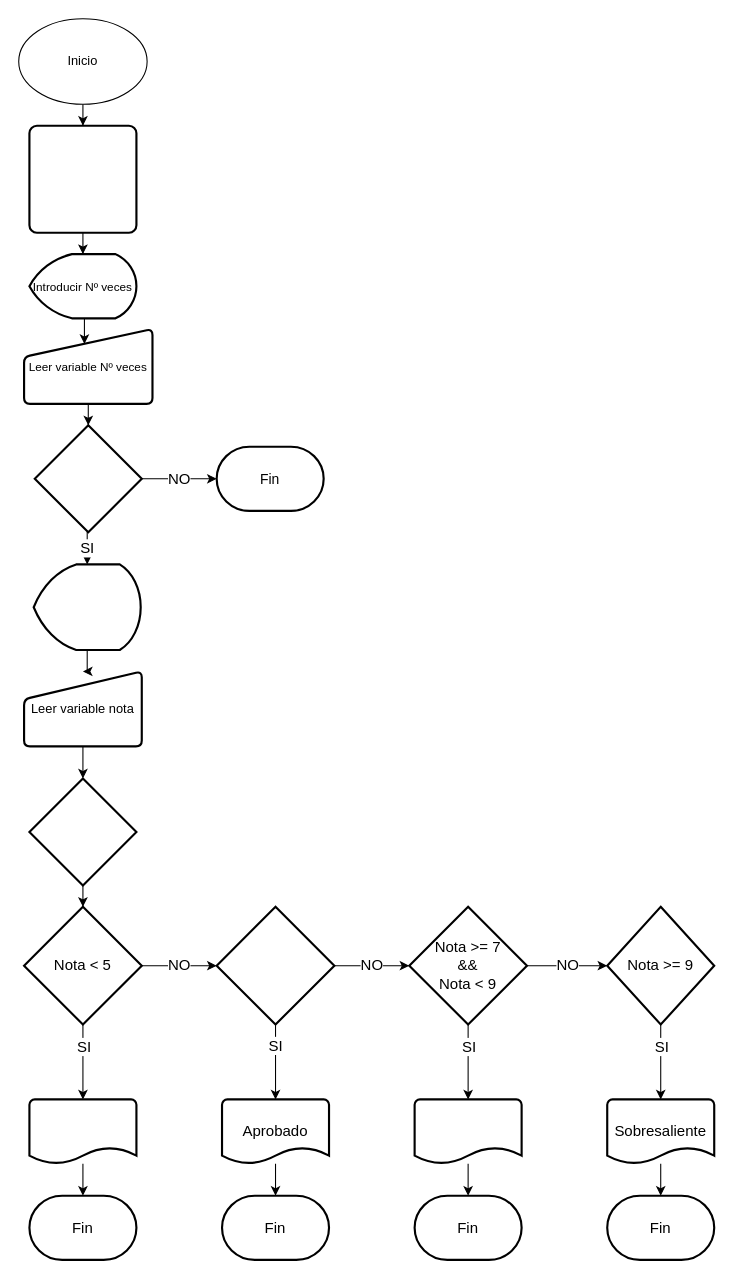
Some shapes in this 734 by 1280 pixel diagram are drawn without their labels. The centre of each missing label's shape, as x and y in pixels:
"Introducir nota entre 0 y 10" belongs at point 86,607.
"Nota = 0 Calificación = 0 Nº notas = 0 Nº veces = 0" belongs at point 82,178.
"Nota >= 0 && Nota <= 10" belongs at point 82,831.
"Nota >= 5 && Nota < 7" belongs at point 275,965.
"Notable" belongs at point 467,1131.
"Nº notas < Nº veces" belongs at point 87,478.
"Suspenso" belongs at point 82,1131.
